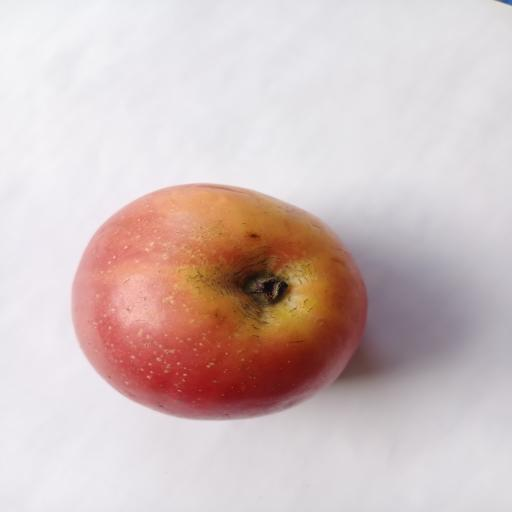apple-ripe: (56, 174, 378, 428)
